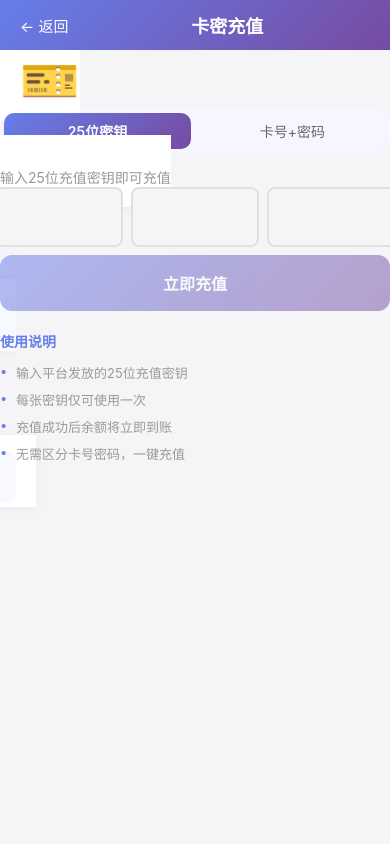
Test: CardRecharge 双模式 › 卡号+密码模式：先校验再核销，成功后刷新余额并按服务端金额提示
This screenshot has width=390, height=844.
Click the text with class "mode-item" showing "卡号+密码" at (293, 132), box [260,123,325,140]
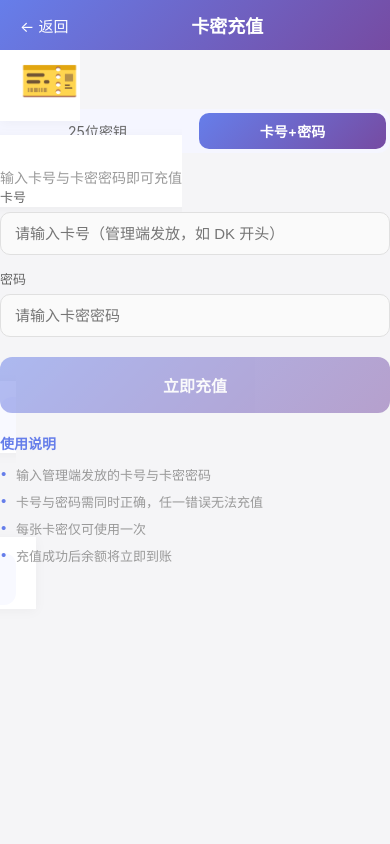
Type "DKABCDEFGHJKLMN" into the field with class "credential-input" showing "请输入卡号（管理端发放，如 DK 开头）" at (195, 234), box [0,212,389,255]
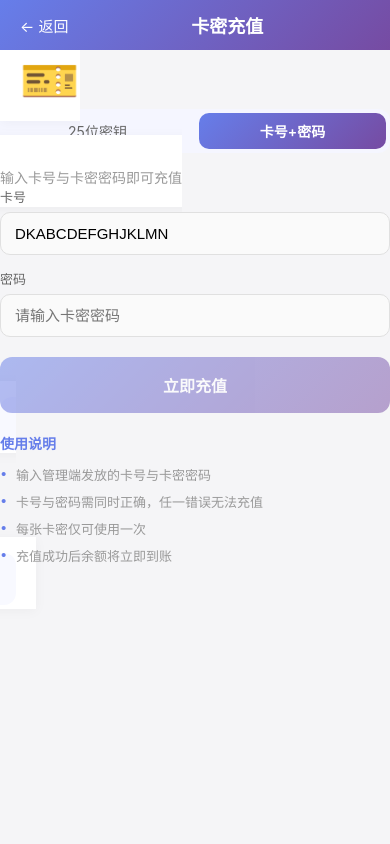
Type "PWD123456789" into the password field with class "credential-input" showing "请输入卡密密码" at (195, 316), box [0,294,389,337]
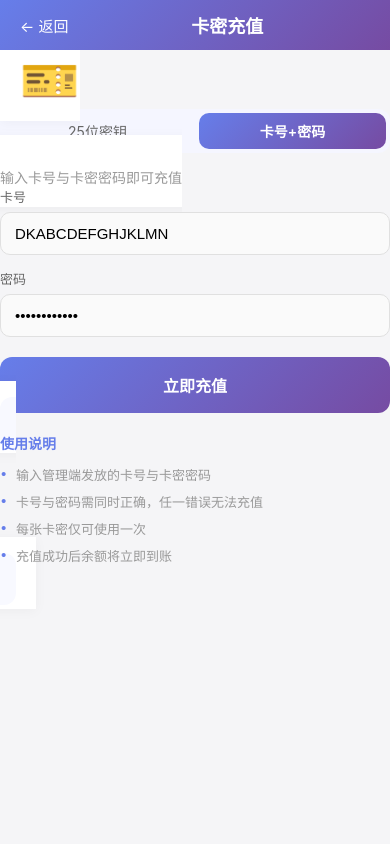
Click the button with class "submit-btn" at (195, 385), box [0,357,389,413]
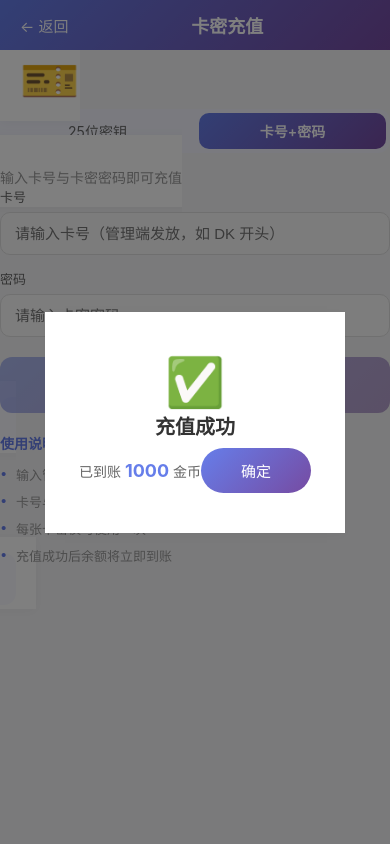
Result: the element with class "result-content" shows "1000" at [125,460,169,480]
Result: the field with class "credential-input" is empty at [0,212,389,255]
